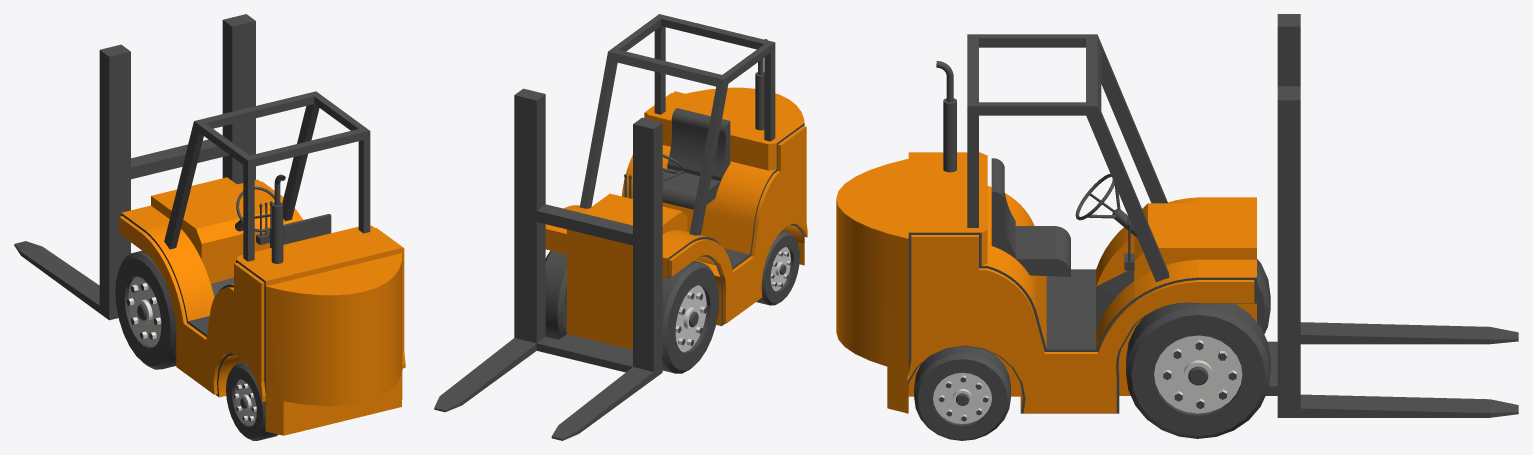
The picture shows the model from 3 angles, left to right: view 1: azimuth 30°, elevation 25°; view 2: azimuth 150°, elevation 25°; view 3: azimuth 270°, elevation 25°; orthographic projection. The views are drawn at different scales.
Visible parts, largest first — view 1: SketchUp (×17); view 2: SketchUp (×13); view 3: SketchUp (×14).
Part boxes in pixels (left/top/right/bottom): SketchUp (×17): left=14, top=14, right=405, bottom=440; SketchUp (×13): left=434, top=14, right=807, bottom=440; SketchUp (×14): left=836, top=14, right=1518, bottom=440.
Size of the model in its own units: 70.7 by 234 by 131.
